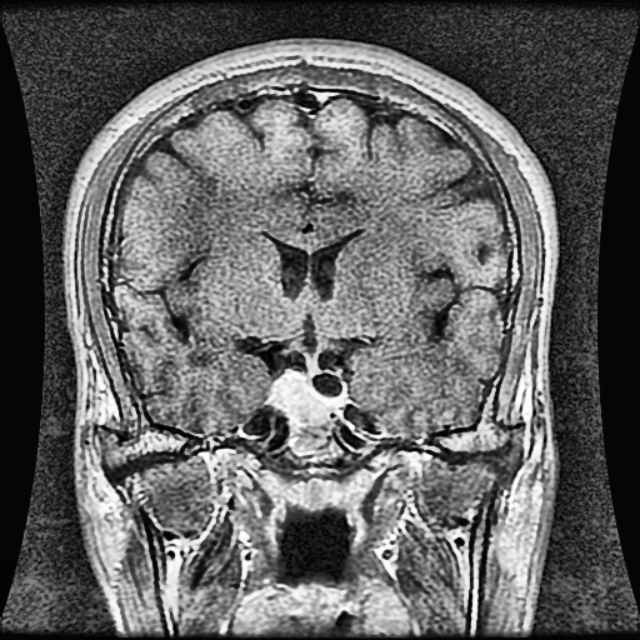Pituitary: (270, 370, 330, 428)
